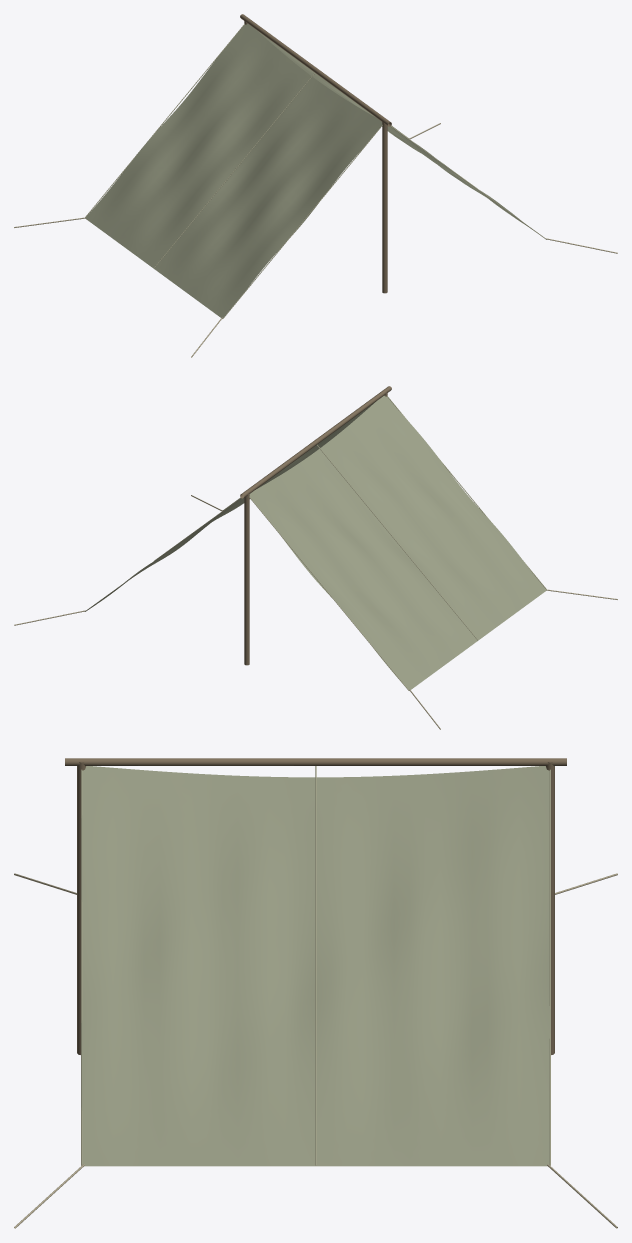
Rendered from canvas_shelter.glb.
3 renders of one model, top to bottom at view 1: azimuth 30°, elevation 25°; view 2: azimuth 150°, elevation 25°; view 3: azimuth 270°, elevation 25°, orthographic. The views are drawn at different scales.
Visible parts, largest first — view 1: Sagging woven canvas panel, Sagging woven canvas panel.001, Weathered ridge support, Ridge pole; view 2: Sagging woven canvas panel, Sagging woven canvas panel.001, Weathered ridge support.001, Ridge pole; view 3: Sagging woven canvas panel.001, Ridge pole, Weathered ridge support, Weathered ridge support.001, Stitched panel seam.004, Stitched panel seam.005.
Part boxes in pixels (<box>): Sagging woven canvas panel: <box>85,23,382,318</box>; Sagging woven canvas panel.001: <box>256,30,530,228</box>; Weathered ridge support: <box>382,120,387,293</box>; Ridge pole: <box>240,14,391,126</box>; Sagging woven canvas panel: <box>249,395,546,690</box>; Sagging woven canvas panel.001: <box>88,402,375,609</box>; Weathered ridge support.001: <box>244,492,249,665</box>; Ridge pole: <box>240,386,391,498</box>; Sagging woven canvas panel.001: <box>81,766,550,1166</box>; Ridge pole: <box>65,758,566,765</box>; Weathered ridge support: <box>77,762,85,1054</box>; Weathered ridge support.001: <box>546,762,554,1054</box>; Stitched panel seam.004: <box>315,766,316,1165</box>; Stitched panel seam.005: <box>549,769,550,1165</box>.
Bounding box in the file's own units: 5.01 × 1.94 × 3.61.
